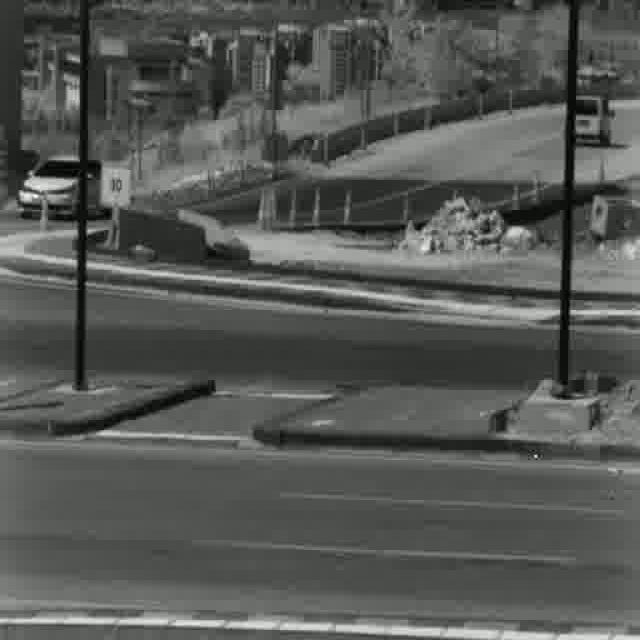Car: (15, 157, 107, 219), (574, 96, 612, 148)
